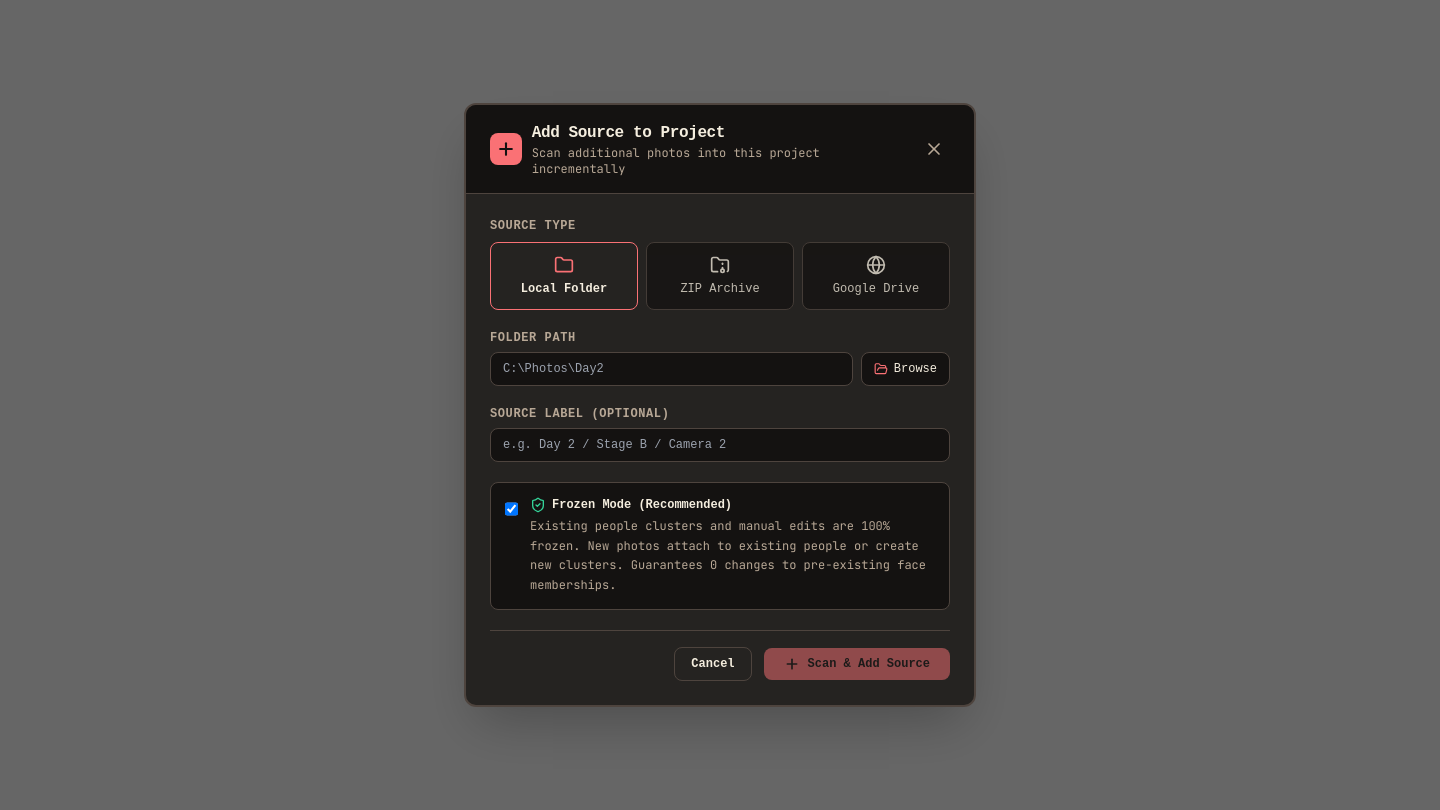
Scenario: Incremental Source Ingestion & What Changed UI (Phase V2-3) › AddSourceModal › handles backend error gracefully and shows alert
The width and height of the screenshot is (1440, 810).
Type "C:/Missing" into the field with test id "input-source-path". click: coordinates (671, 369)
box: left=490, top=352, right=853, bottom=386
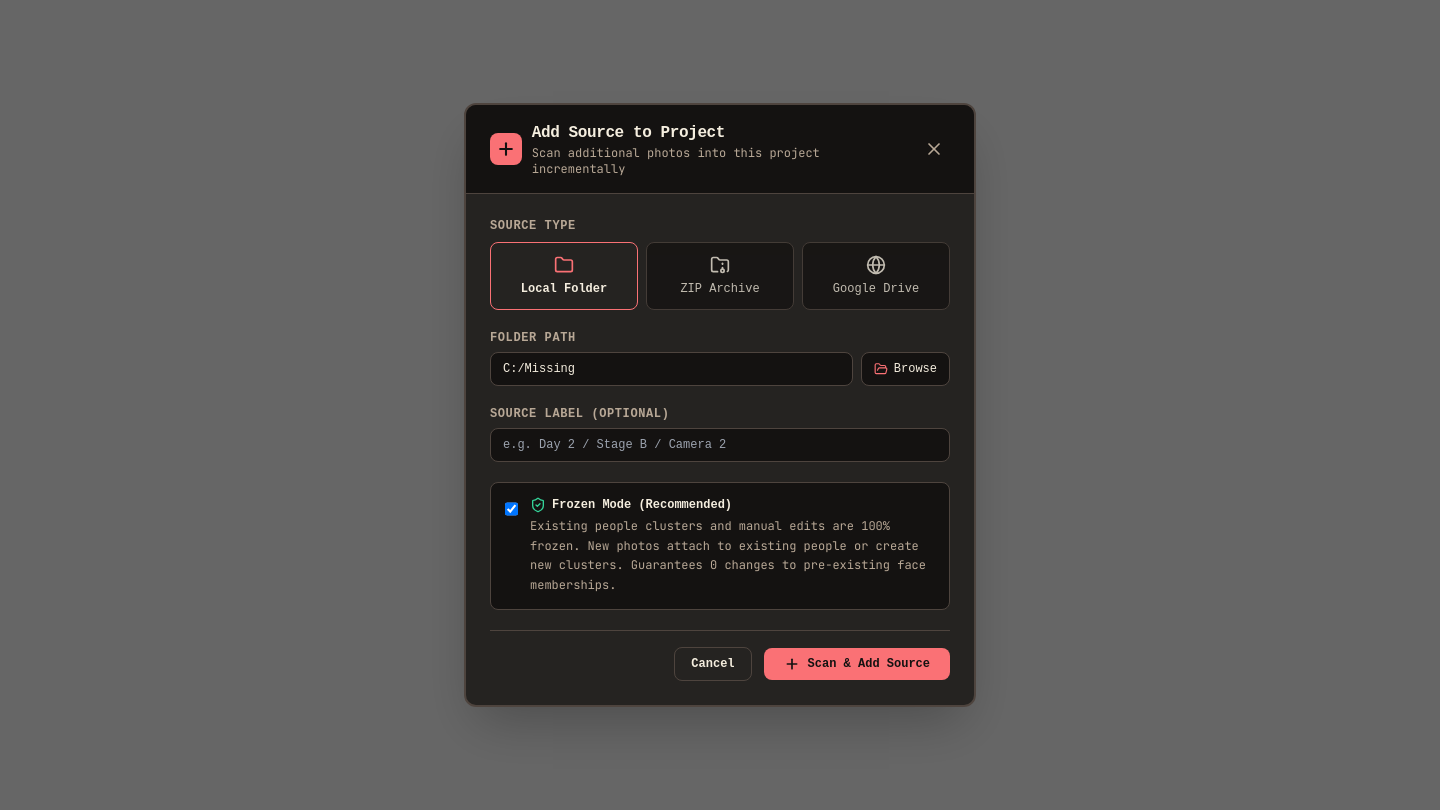
Click the button with test id "btn-submit-add-source". click: coordinates (857, 664)
box: left=764, top=648, right=950, bottom=680
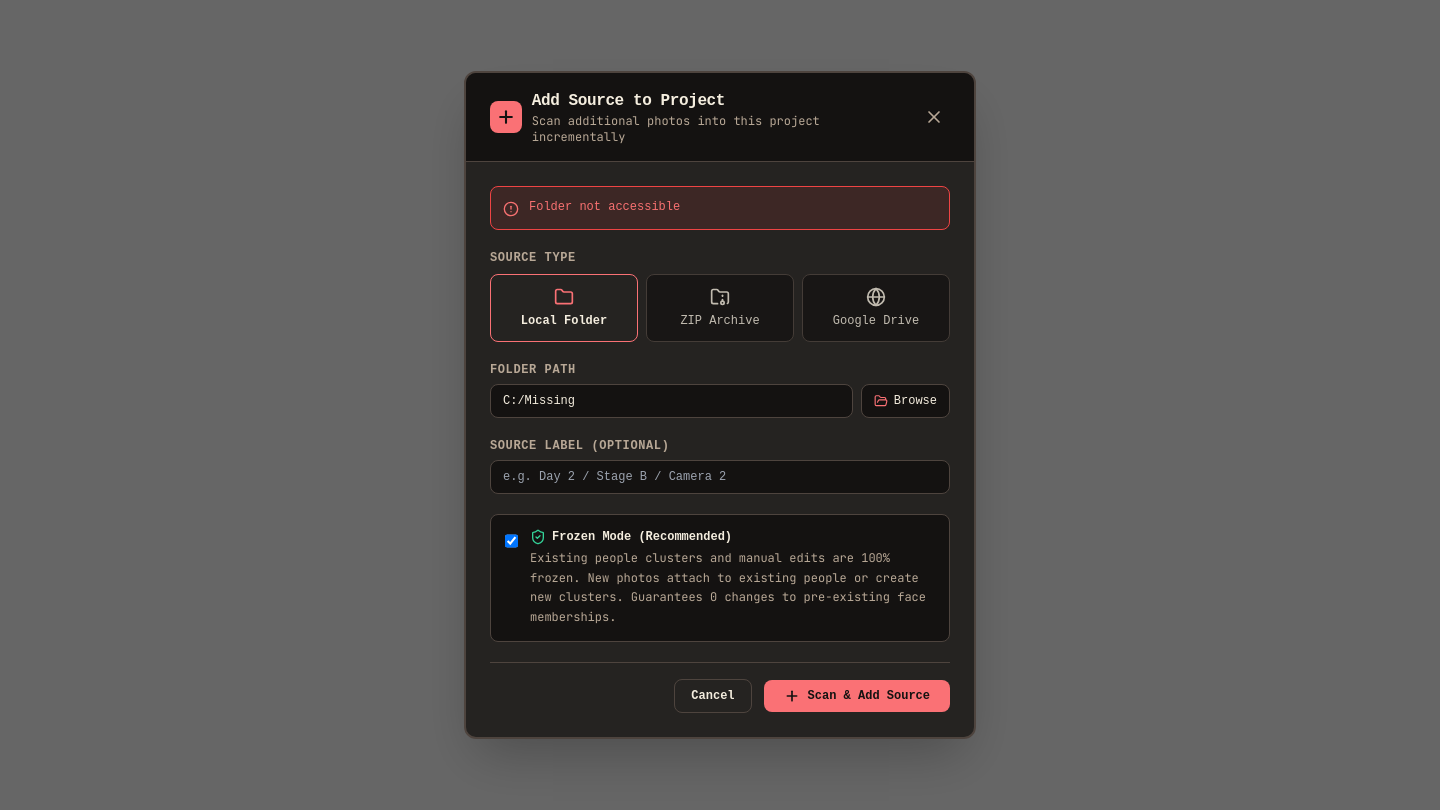
Expected: the element with test id "add-source-error-alert" is shown, left=490, top=186, right=950, bottom=230
Expected: the text "Folder not accessible" is shown, left=529, top=199, right=680, bottom=215
